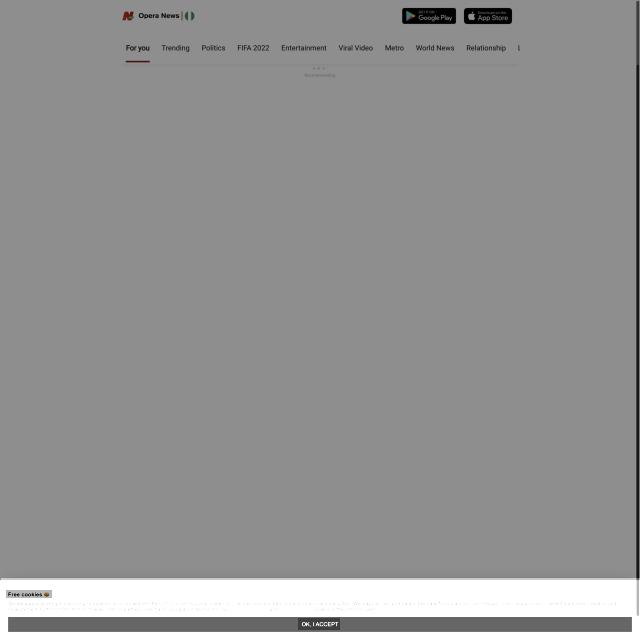CheckBox: (8, 616, 633, 634)
Input field: (6, 600, 618, 614)
breadcrumbs: (6, 590, 52, 598)
carousel: (623, 589, 633, 599)
data feed: (298, 618, 340, 630)
header: (1, 578, 640, 640)
